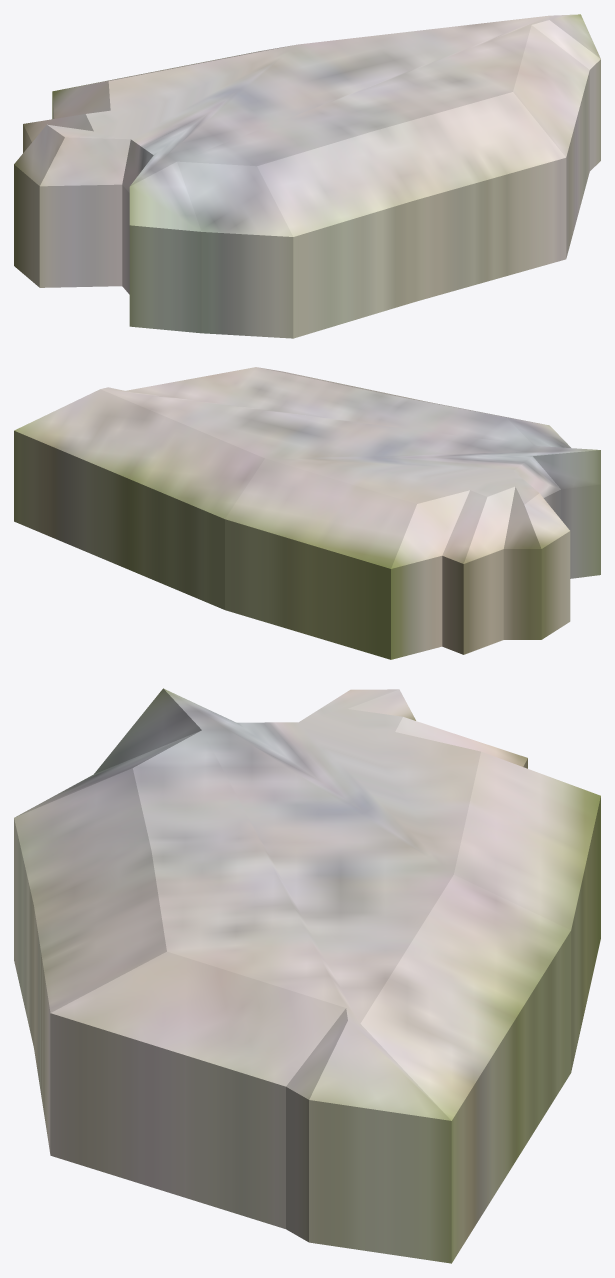
File: stone.34.fbx
The picture shows the model from 3 angles, top to bottom: view 1: azimuth 30°, elevation 25°; view 2: azimuth 150°, elevation 25°; view 3: azimuth 270°, elevation 25°; orthographic projection. The views are drawn at different scales.
Parts seen in each view (by area): view 1: stone.34; view 2: stone.34; view 3: stone.34.
Part boxes in pixels (<box>): stone.34: <box>14,14,600,338</box>; stone.34: <box>14,367,600,659</box>; stone.34: <box>14,688,600,1263</box>.
Size of the model in its own units: 42.38 by 9.74 by 26.41.
1 material, 1 textured.
